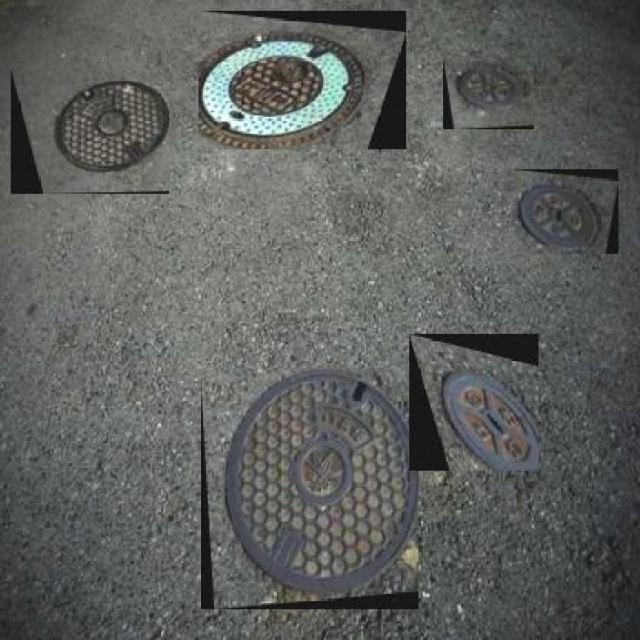Manhole: (200, 368, 418, 609), (198, 11, 406, 150), (10, 68, 170, 194), (410, 334, 538, 471), (511, 169, 618, 254), (443, 56, 534, 129)
